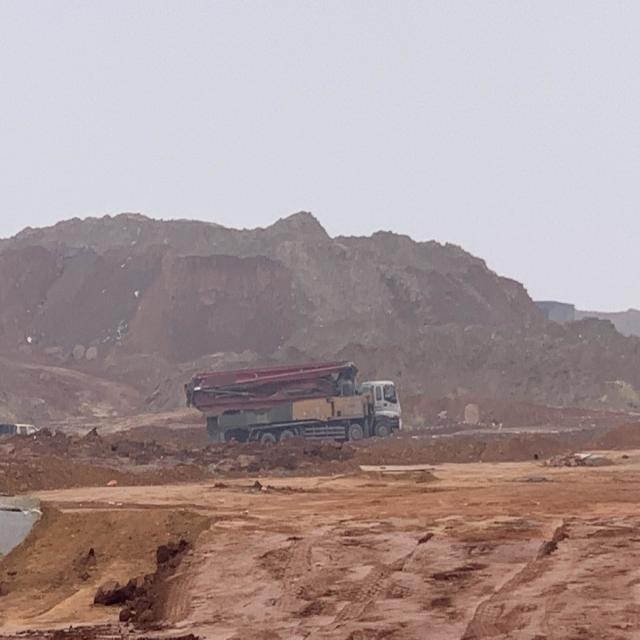truck: (184, 360, 401, 444)
